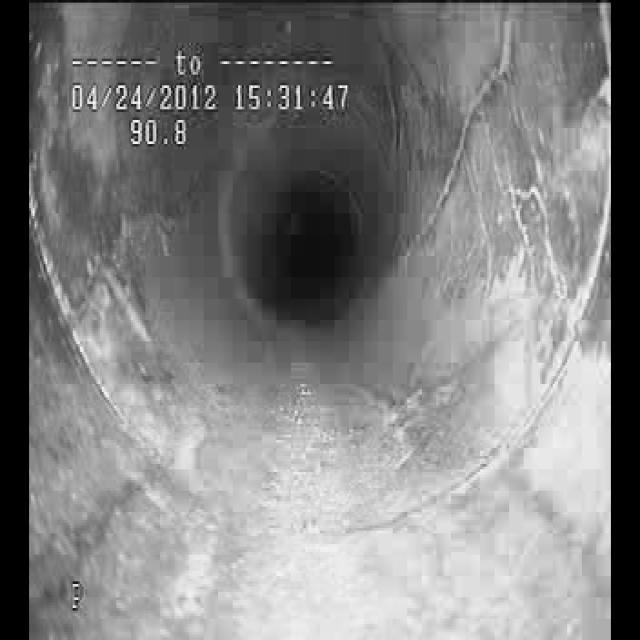Crack: (404, 22, 568, 296)
